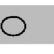no answer: (0, 13, 27, 38)
